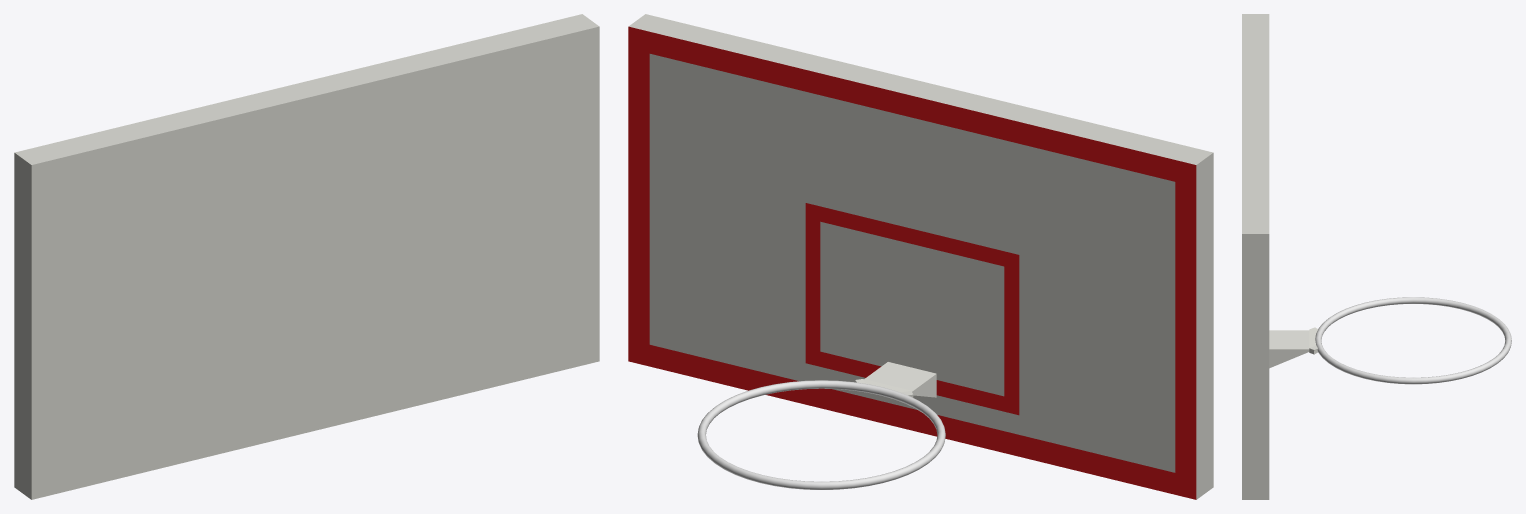
Rendered from Ring.fbx.
The picture shows the model from 3 angles, left to right: view 1: azimuth 30°, elevation 25°; view 2: azimuth 150°, elevation 25°; view 3: azimuth 270°, elevation 25°; orthographic projection. The views are drawn at different scales.
Parts seen in each view (by area): view 1: Cube; view 2: Cube, Torus, Cube.001; view 3: Cube, Torus, Cube.001.
Boxes of the visible parts, x1,y1,x2,y2 form: Cube: (14, 14, 599, 499); Cube: (628, 14, 1213, 499); Torus: (697, 380, 945, 489); Cube.001: (855, 362, 936, 397); Cube: (1242, 14, 1269, 499); Torus: (1315, 297, 1511, 384); Cube.001: (1269, 327, 1318, 368).
Size of the model in its own units: 759 by 427 by 393.
